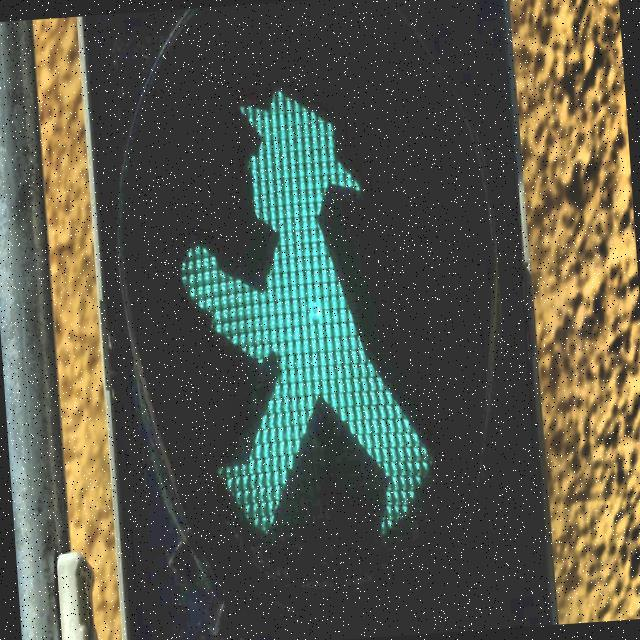green_light: (158, 63, 447, 568)
